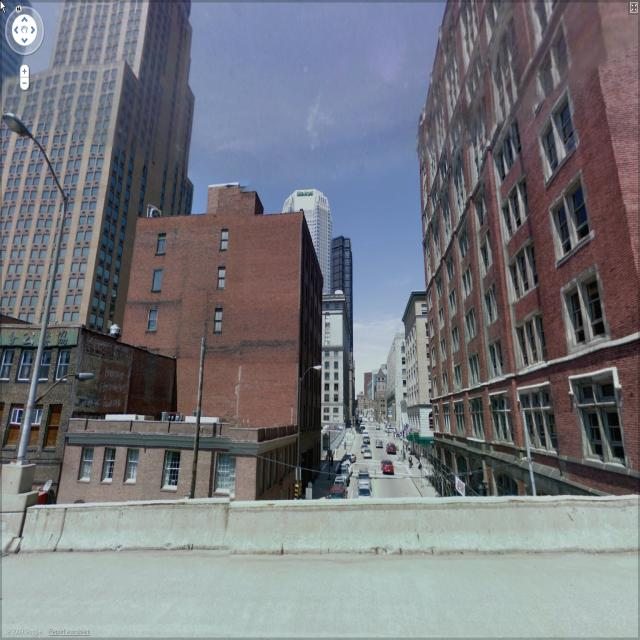b_1: (412, 2, 638, 510), (5, 1, 202, 311), (115, 184, 321, 420), (67, 414, 291, 512), (0, 314, 91, 468), (402, 292, 446, 459), (295, 188, 331, 287), (382, 330, 411, 441), (322, 296, 346, 427), (0, 3, 38, 79), (332, 232, 354, 309), (374, 358, 394, 429), (348, 361, 358, 430)
